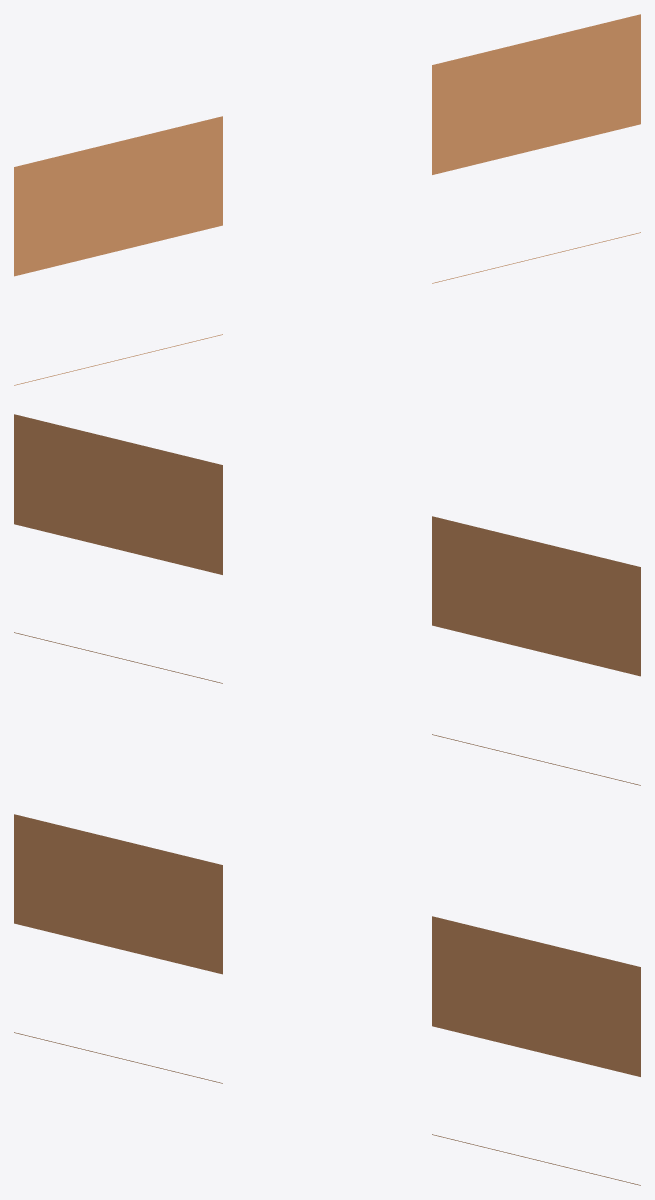
The model's file is skM1_jesse_eyelids.glb.
The picture shows the model from 3 angles, top to bottom: view 1: azimuth 30°, elevation 25°; view 2: azimuth 150°, elevation 25°; view 3: azimuth 330°, elevation 25°; orthographic projection.
Visible parts, largest first — view 1: skM1_jesse; view 2: skM1_jesse; view 3: skM1_jesse.
Boxes of the visible parts, <box> form: skM1_jesse: <box>14,14,640,385</box>; skM1_jesse: <box>14,414,640,785</box>; skM1_jesse: <box>14,814,640,1185</box>.
Bounding box in the file's own units: 0.3761 × 0.1253 × 1.98e-05.
1 material, 1 textured.
